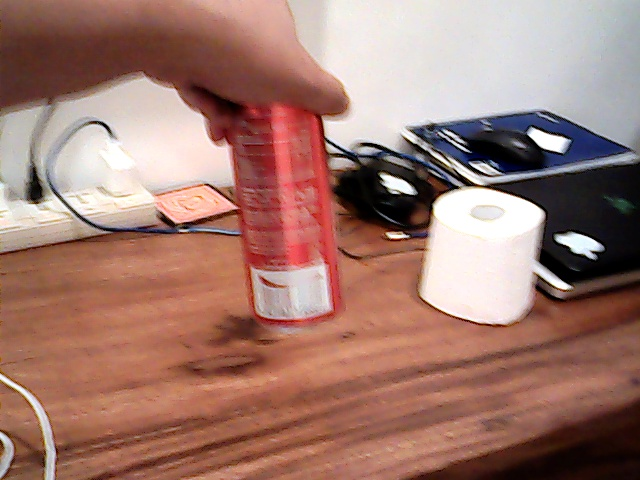Cola: (239, 97, 341, 325)
